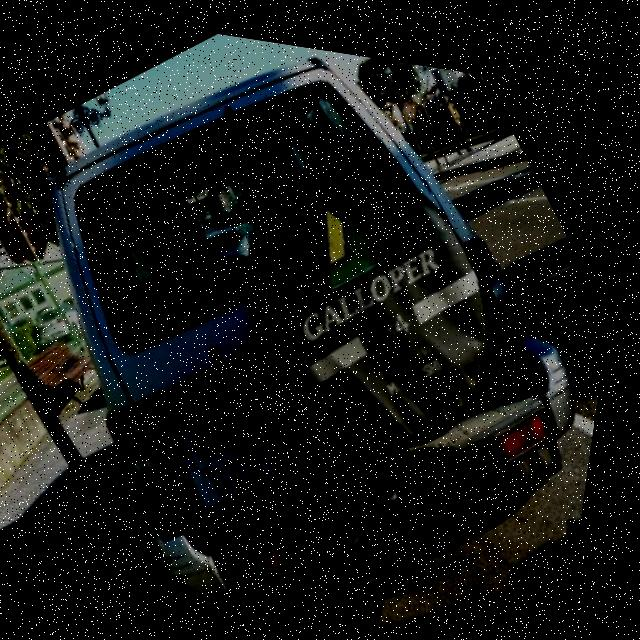license_plate: (170, 374, 317, 522)
